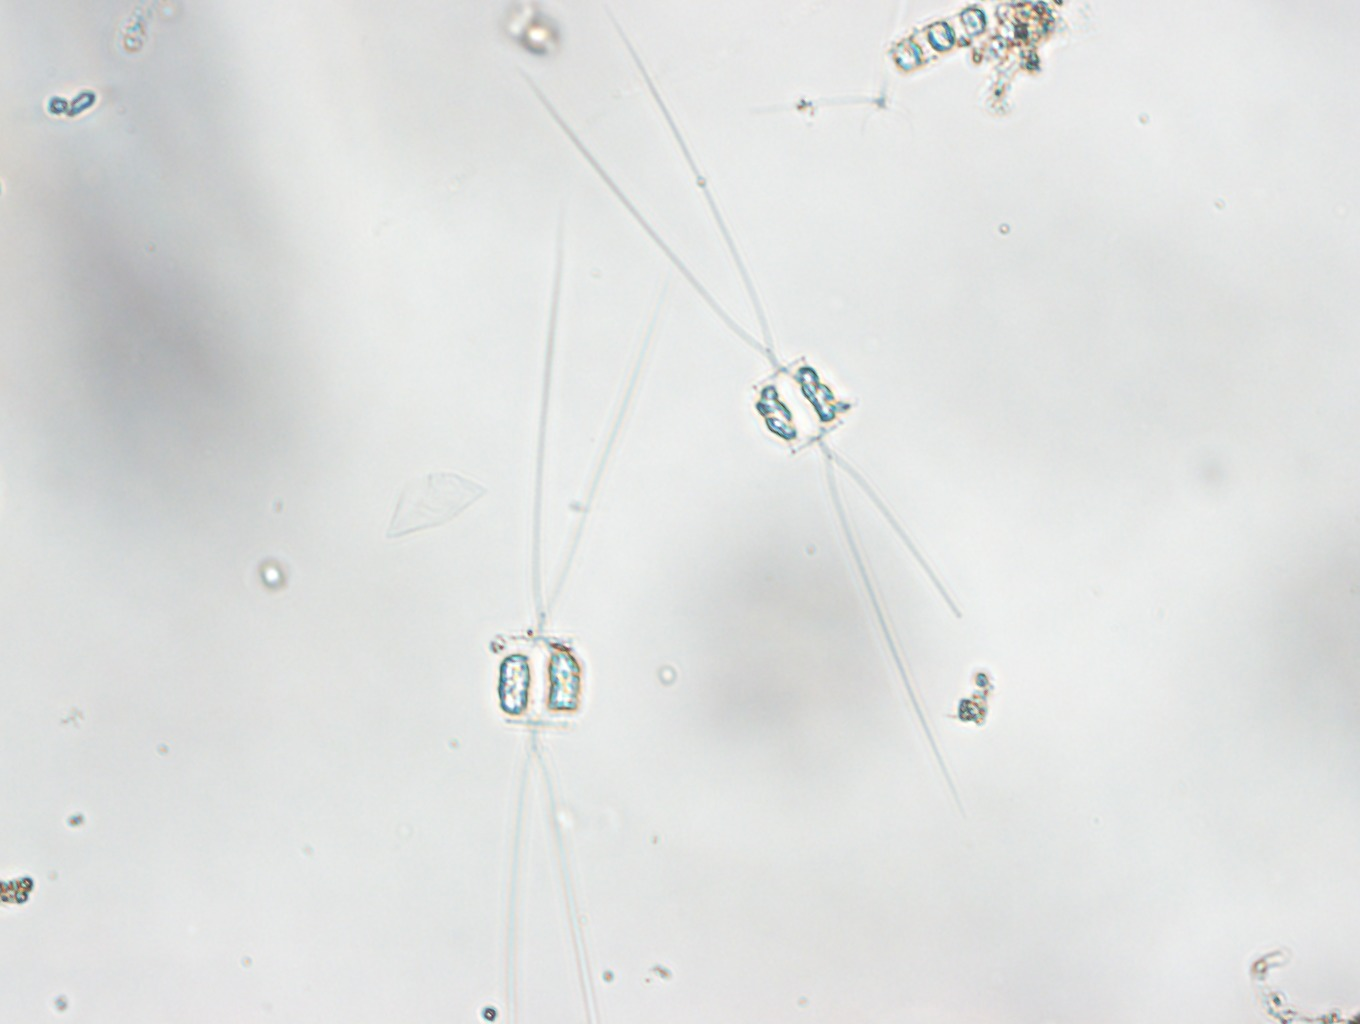chaetoceros: (507, 13, 961, 810), (496, 207, 677, 1024)
